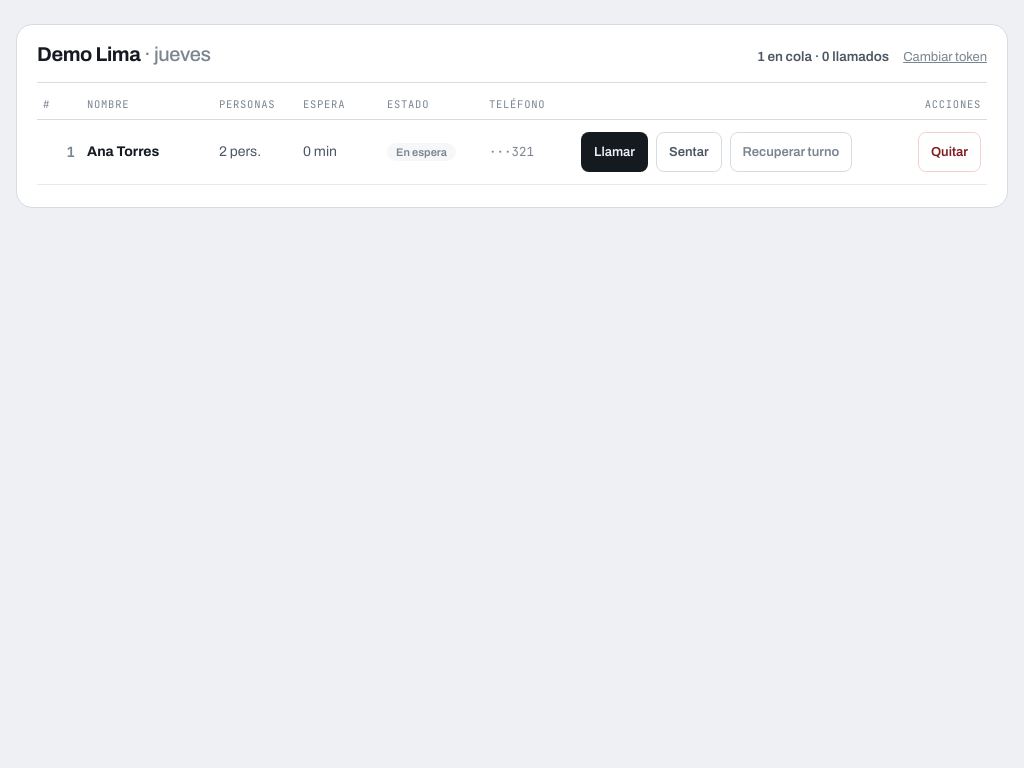
Test: TabletPage: una accion en vuelo no se ve afectada por un tick de sondeo › Recuperar turno: un tick de sondeo mientras el POST sigue pendiente no impide que aparezca el dialogo
The width and height of the screenshot is (1024, 768).
Expected: the text "Ana Torres" is shown, [87,144,159,159]
Step 1. Click the button "Recuperar turno" → (791,152), box [730,132,852,172]
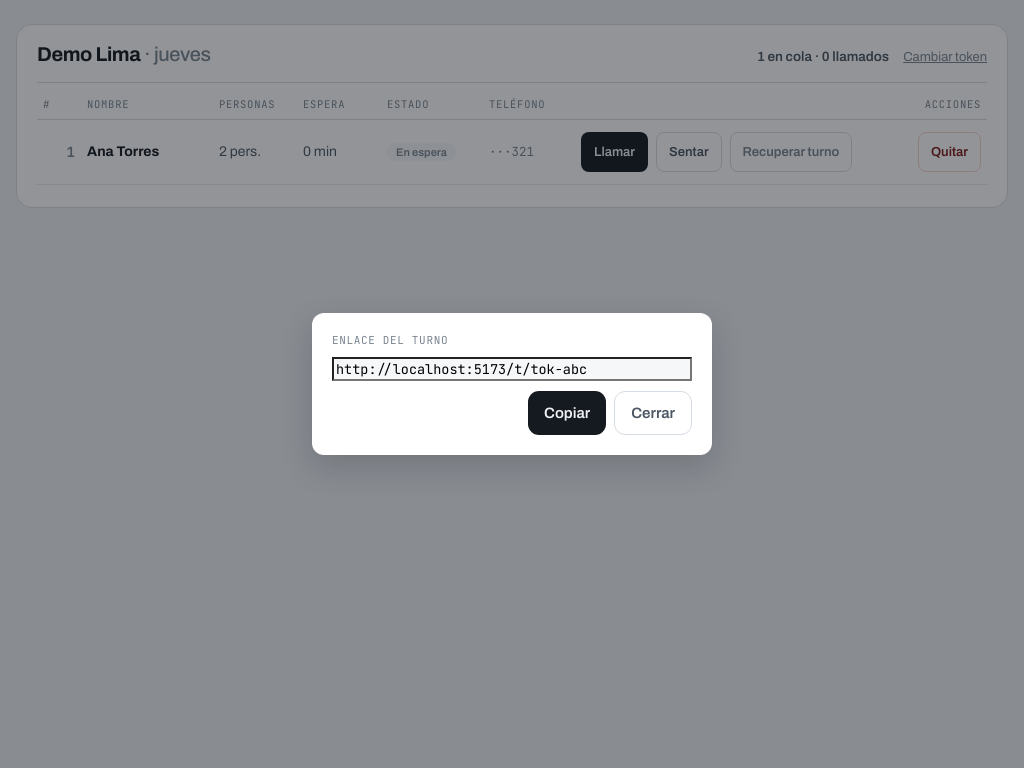
Expected: the field labelled "Enlace del turno" holds "http://localhost:5173/t/tok-abc", [332,357,692,381]
